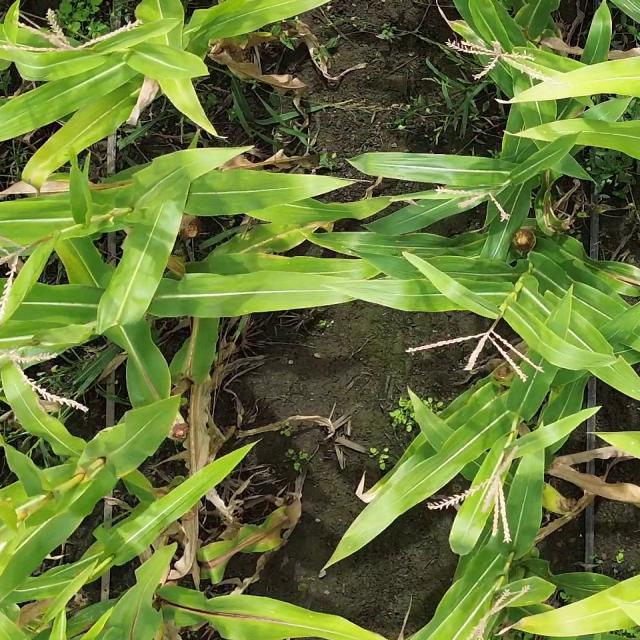northern-leaf-blight: (164, 589, 356, 640), (194, 498, 292, 585)
southern-leaf-blight: (324, 222, 429, 272)
